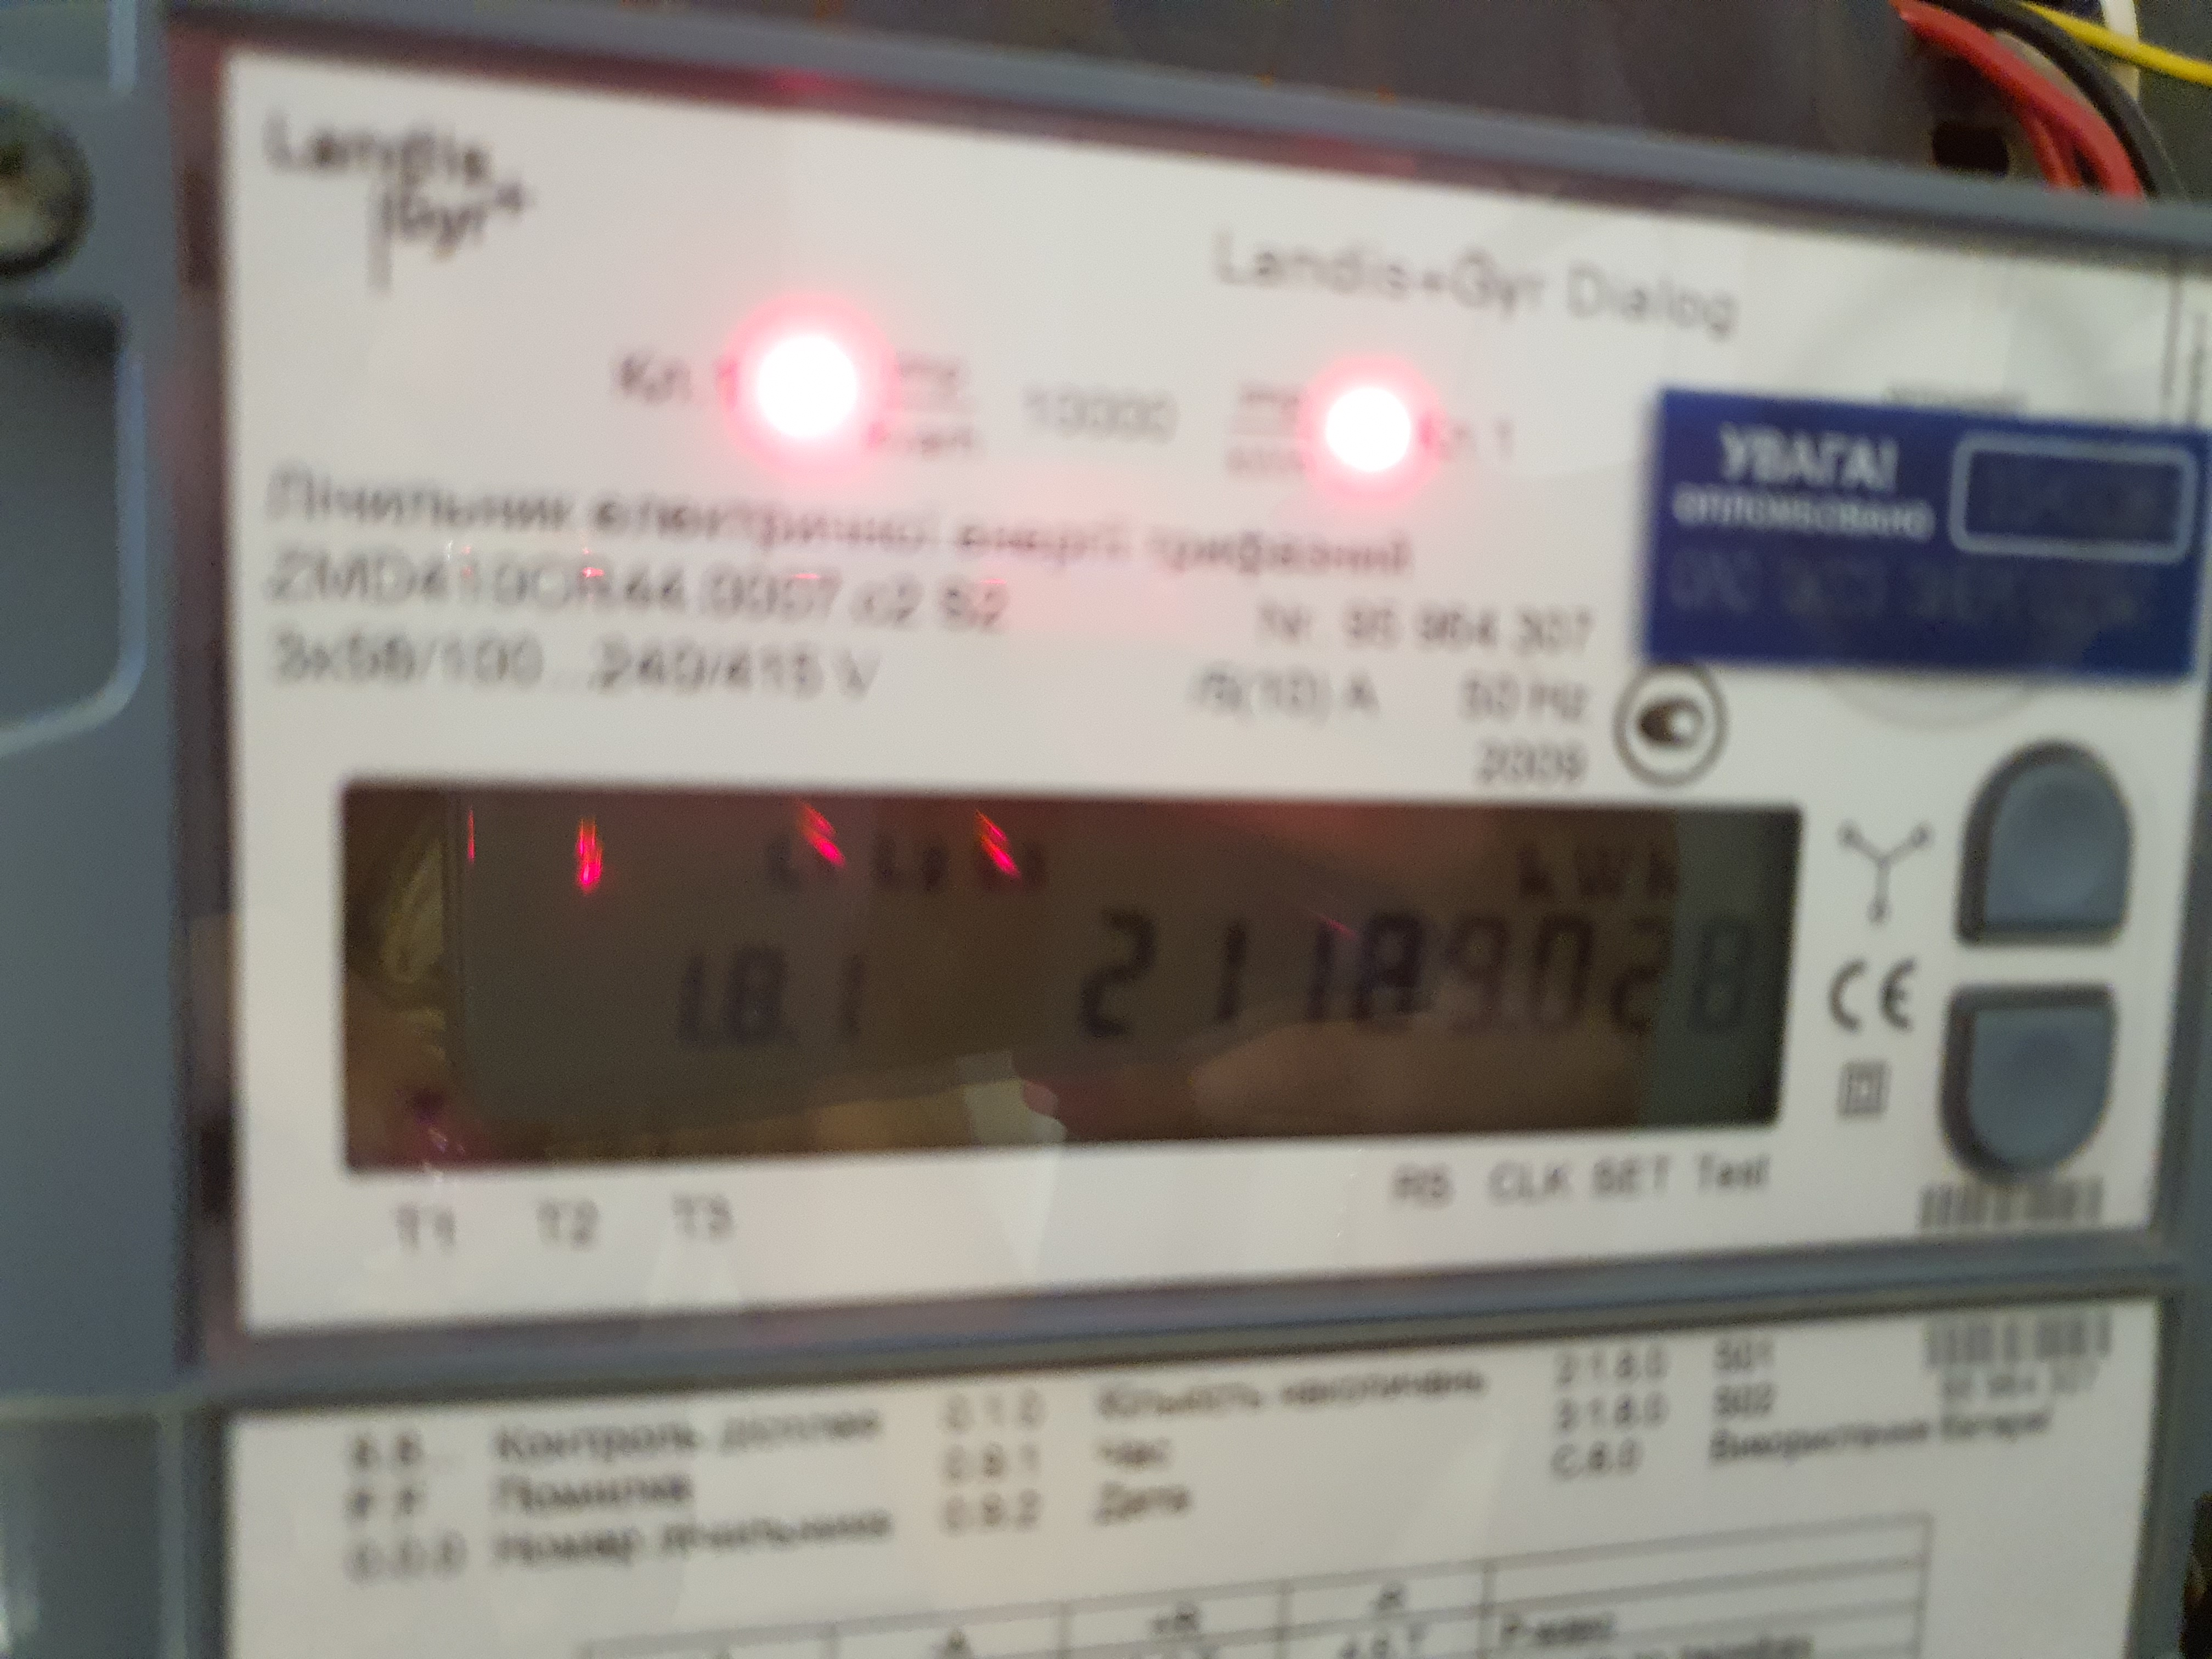screen: (282, 702, 1846, 1232)
